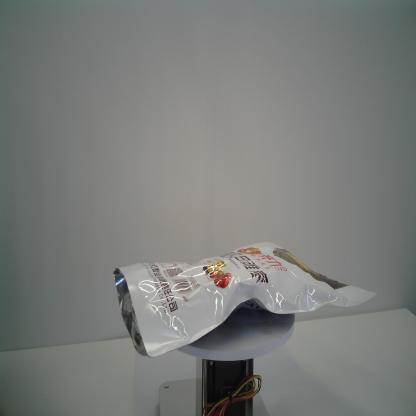Dried Food: (112, 237, 379, 364)
